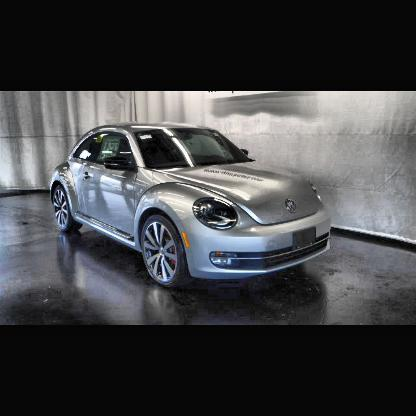Volkswagen Beetle Hatchback 2012: (51, 124, 331, 290)
